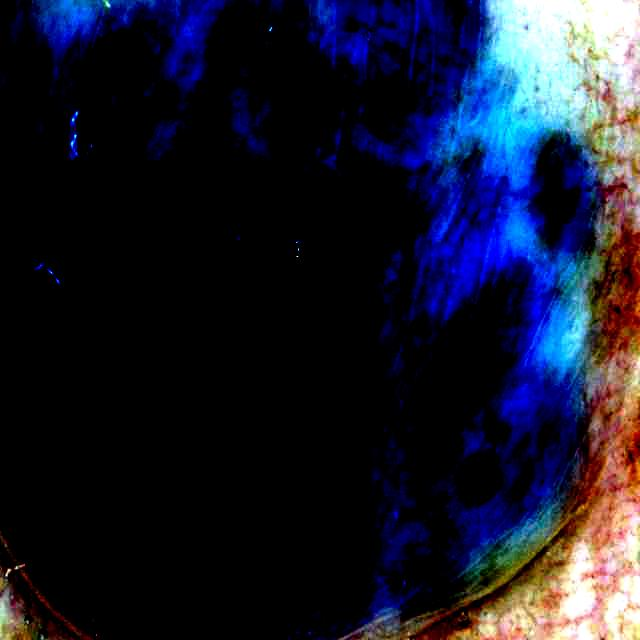VASC: (0, 3, 586, 638)
